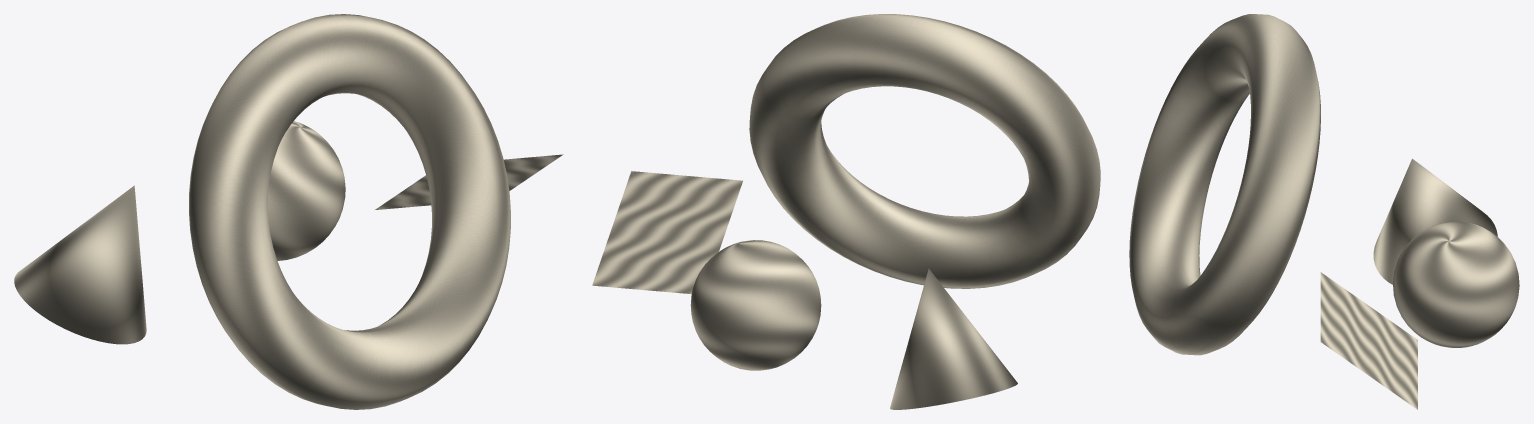
3 views of the same model, side by side, from view 1: azimuth 30°, elevation 25°; view 2: azimuth 150°, elevation 25°; view 3: azimuth 270°, elevation 25° (orthographic). The views are drawn at different scales.
Visible parts, largest first — view 1: G09_0_torus, G09_1_cone.001, G09_2_sphere, G09_3_plane; view 2: G09_0_torus, G09_2_sphere, G09_3_plane, G09_1_cone.001; view 3: G09_0_torus, G09_2_sphere, G09_3_plane, G09_1_cone.001.
Part boxes in pixels (bbox=[...]): G09_0_torus: bbox=[189, 14, 510, 409]; G09_1_cone.001: bbox=[14, 185, 146, 344]; G09_2_sphere: bbox=[268, 121, 345, 260]; G09_3_plane: bbox=[375, 154, 563, 209]; G09_0_torus: bbox=[749, 14, 1100, 288]; G09_2_sphere: bbox=[690, 240, 821, 370]; G09_3_plane: bbox=[592, 171, 742, 294]; G09_1_cone.001: bbox=[890, 268, 1017, 409]; G09_0_torus: bbox=[1129, 14, 1320, 355]; G09_2_sphere: bbox=[1393, 221, 1519, 347]; G09_3_plane: bbox=[1320, 272, 1417, 409]; G09_1_cone.001: bbox=[1373, 158, 1497, 284].
Bounding box in the file's own units: 3.92 × 2.66 × 3.14.
1 material, 1 textured.
